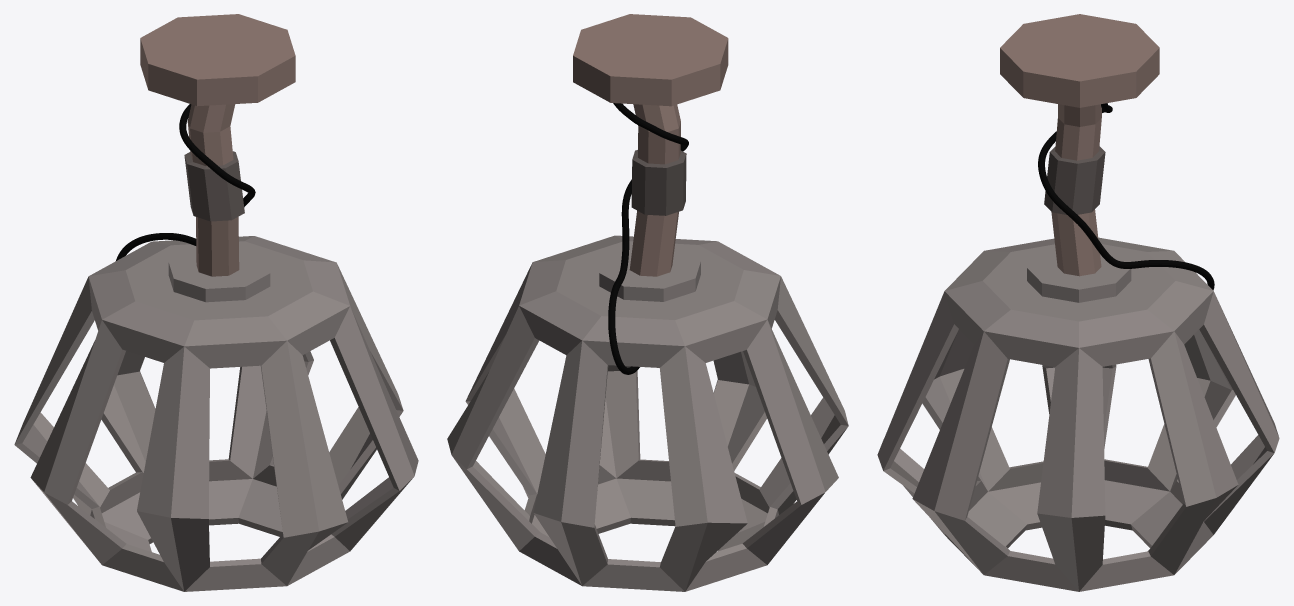
File: hangende_lamp.fbx
3 renders of one model, left to right at view 1: azimuth 30°, elevation 25°; view 2: azimuth 150°, elevation 25°; view 3: azimuth 270°, elevation 25°, orthographic.
Parts seen in each view (by area): view 1: Cylinder.001, Cylinder, Cylinder.009, Cylinder.002; view 2: Cylinder.001, Cylinder, Cylinder.009, Cylinder.002; view 3: Cylinder.001, Cylinder, Cylinder.009, Cylinder.002.
Part boxes in pixels (x1,y1,x2,y2): Cylinder.001: (14, 236, 418, 591); Cylinder: (140, 14, 295, 276); Cylinder.009: (184, 151, 244, 221); Cylinder.002: (116, 104, 255, 260); Cylinder.001: (447, 235, 848, 591); Cylinder: (573, 14, 728, 276); Cylinder.009: (631, 150, 686, 215); Cylinder.002: (608, 103, 688, 374); Cylinder.001: (877, 237, 1279, 591); Cylinder: (1000, 14, 1159, 276); Cylinder.009: (1044, 146, 1105, 214); Cylinder.002: (1038, 103, 1214, 290).
Size of the model in its own units: 714 by 989 by 714.
